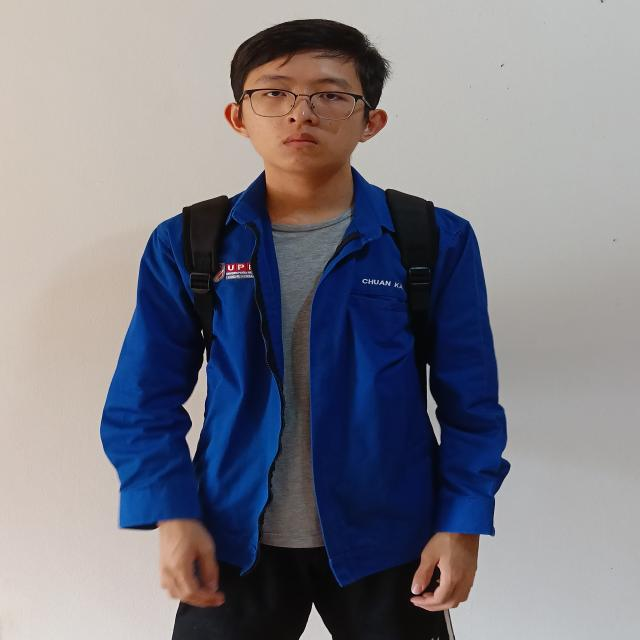person_with_labcoat: (100, 20, 509, 640)
